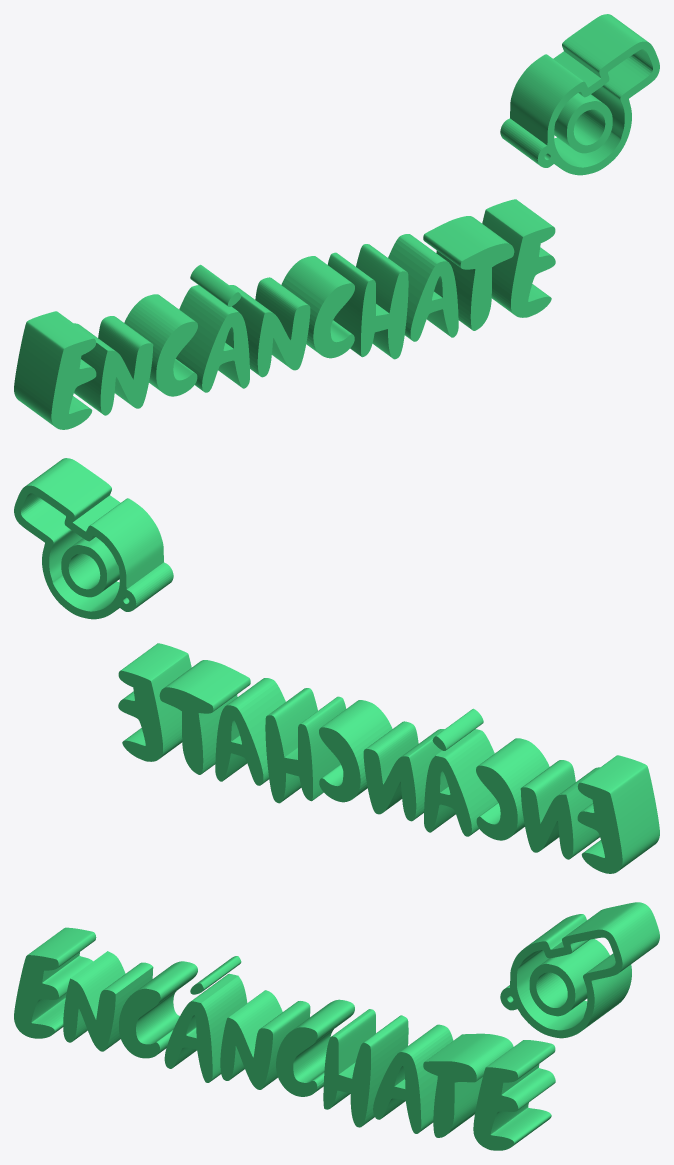
Rendered from encanchate.gltf.
3 renders of one model, top to bottom at view 1: azimuth 30°, elevation 25°; view 2: azimuth 150°, elevation 25°; view 3: azimuth 330°, elevation 25°, orthographic.
Parts seen in each view (by area): view 1: path128; view 2: path128; view 3: path128.
Boxes of the visible parts, x1,y1,x2,y2 form: path128: [14, 14, 659, 429]; path128: [14, 458, 659, 873]; path128: [14, 902, 659, 1150].
Size of the model in its own units: 3.9 by 1.58 by 0.4155.
